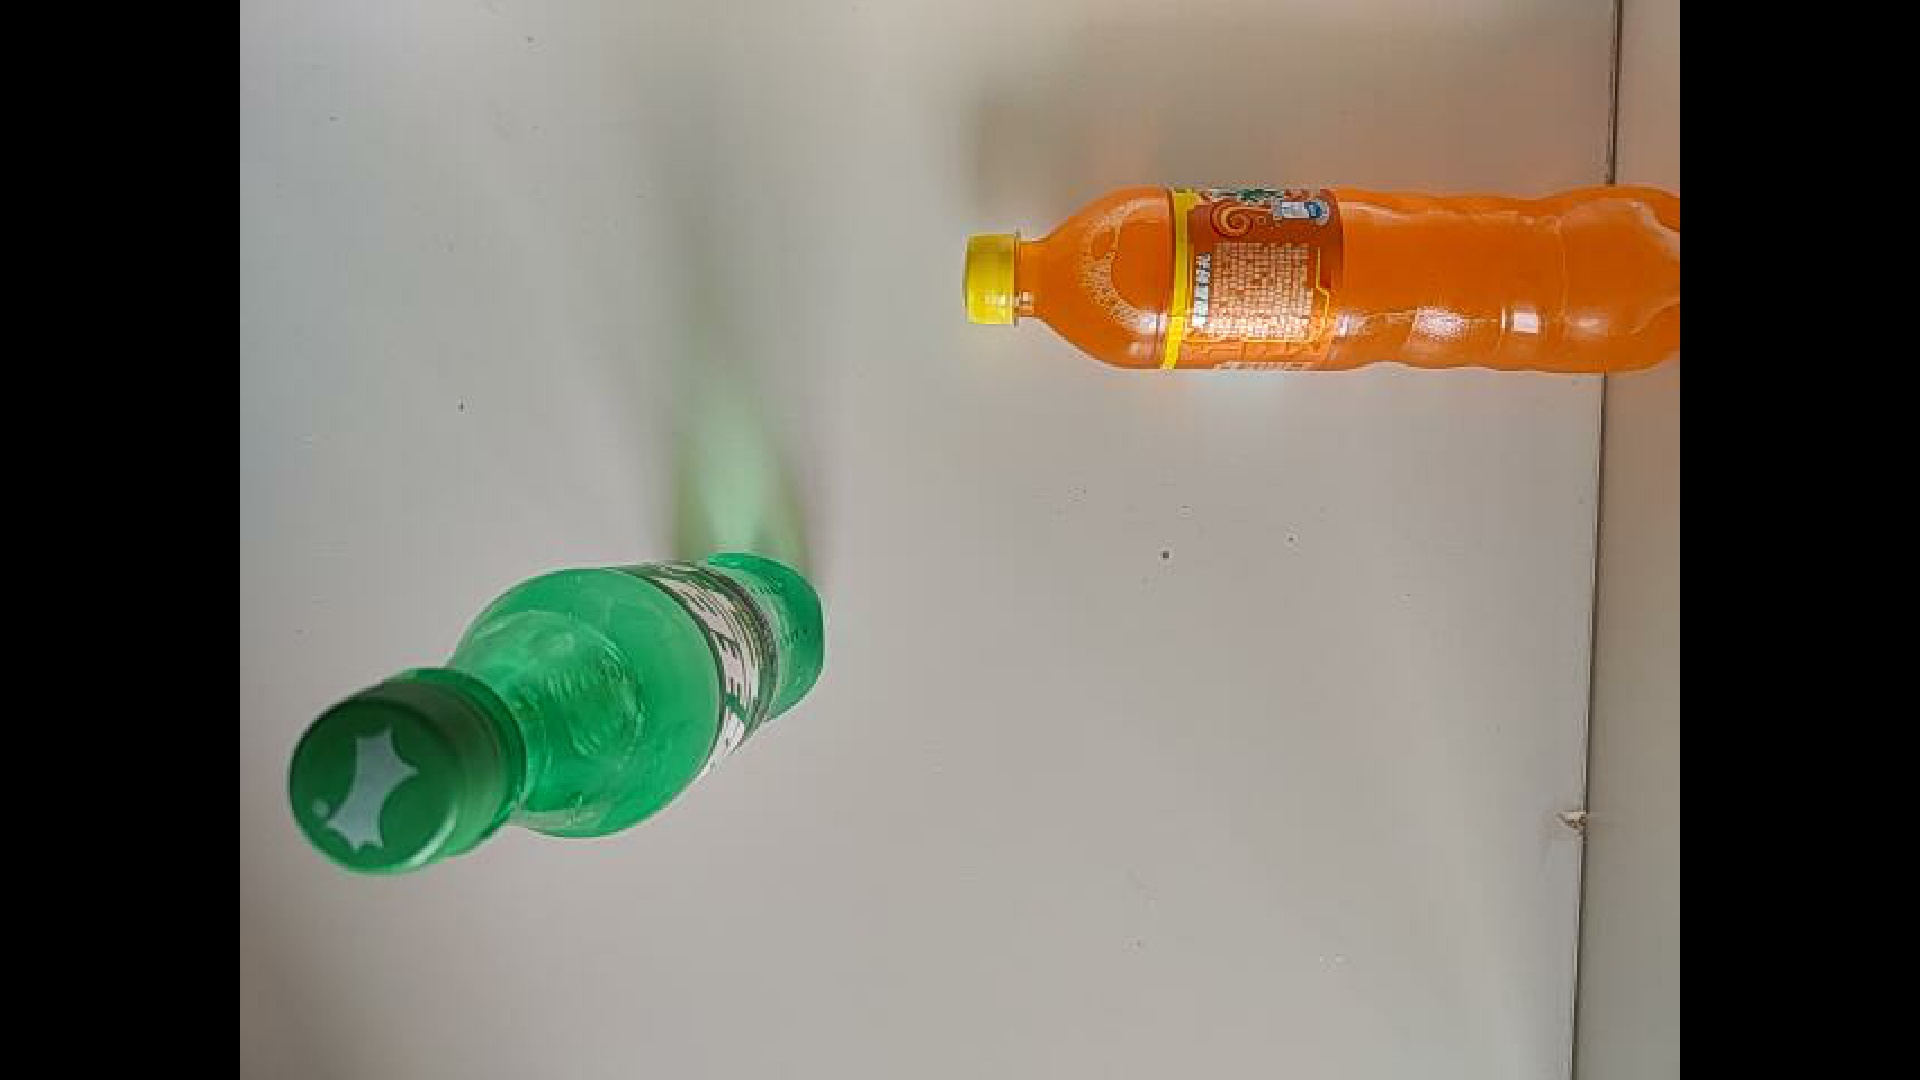fenta: (960, 183, 1685, 376)
sprite: (286, 551, 825, 880)
